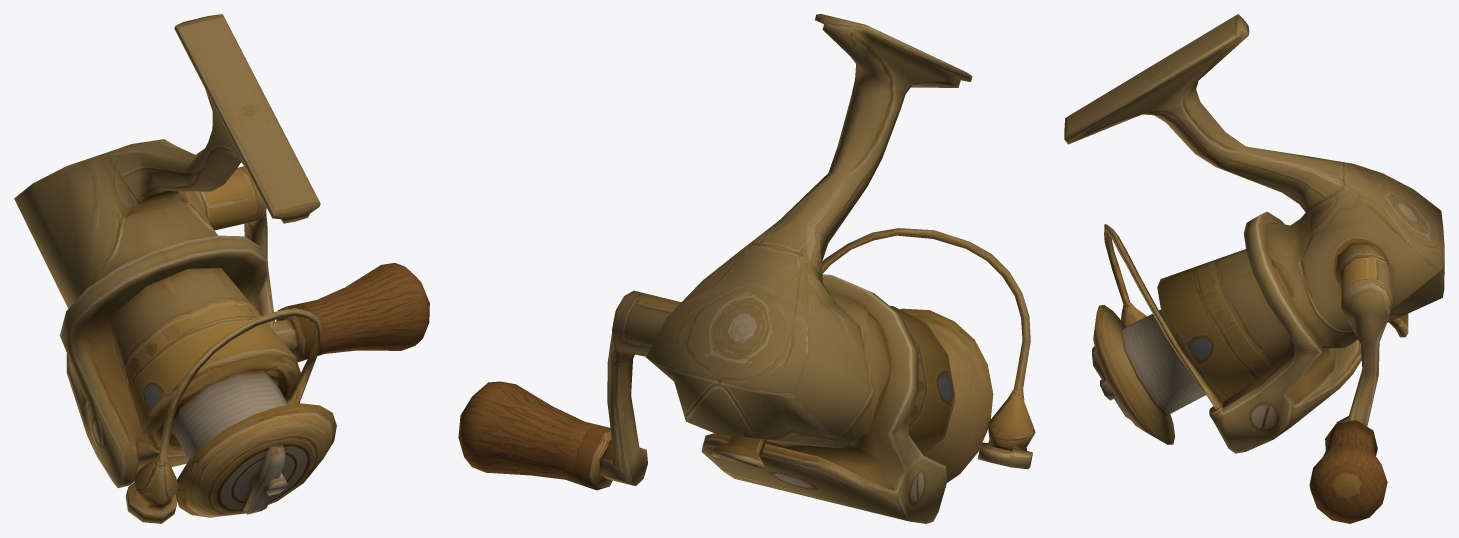
The model's file is Fishing_reel_01.fbx.
3 renders of one model, left to right at view 1: azimuth 30°, elevation 25°; view 2: azimuth 150°, elevation 25°; view 3: azimuth 270°, elevation 25°, orthographic. The views are drawn at different scales.
Parts seen in each view (by area): view 1: Fishing_reel_01; view 2: Fishing_reel_01; view 3: Fishing_reel_01.
Boxes of the visible parts, x1,y1,x2,y2 form: Fishing_reel_01: (14,14,429,523); Fishing_reel_01: (458,14,1035,523); Fishing_reel_01: (1064,14,1444,523).
Bounding box in the file's own units: 42.35 × 46.81 × 39.03.
